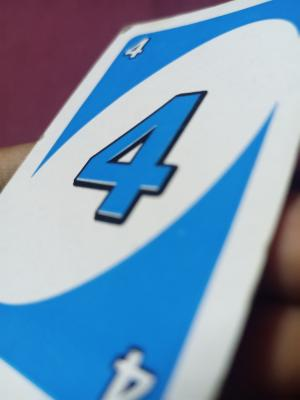blue: (94, 43, 213, 376)
num_4: (123, 34, 153, 64)
